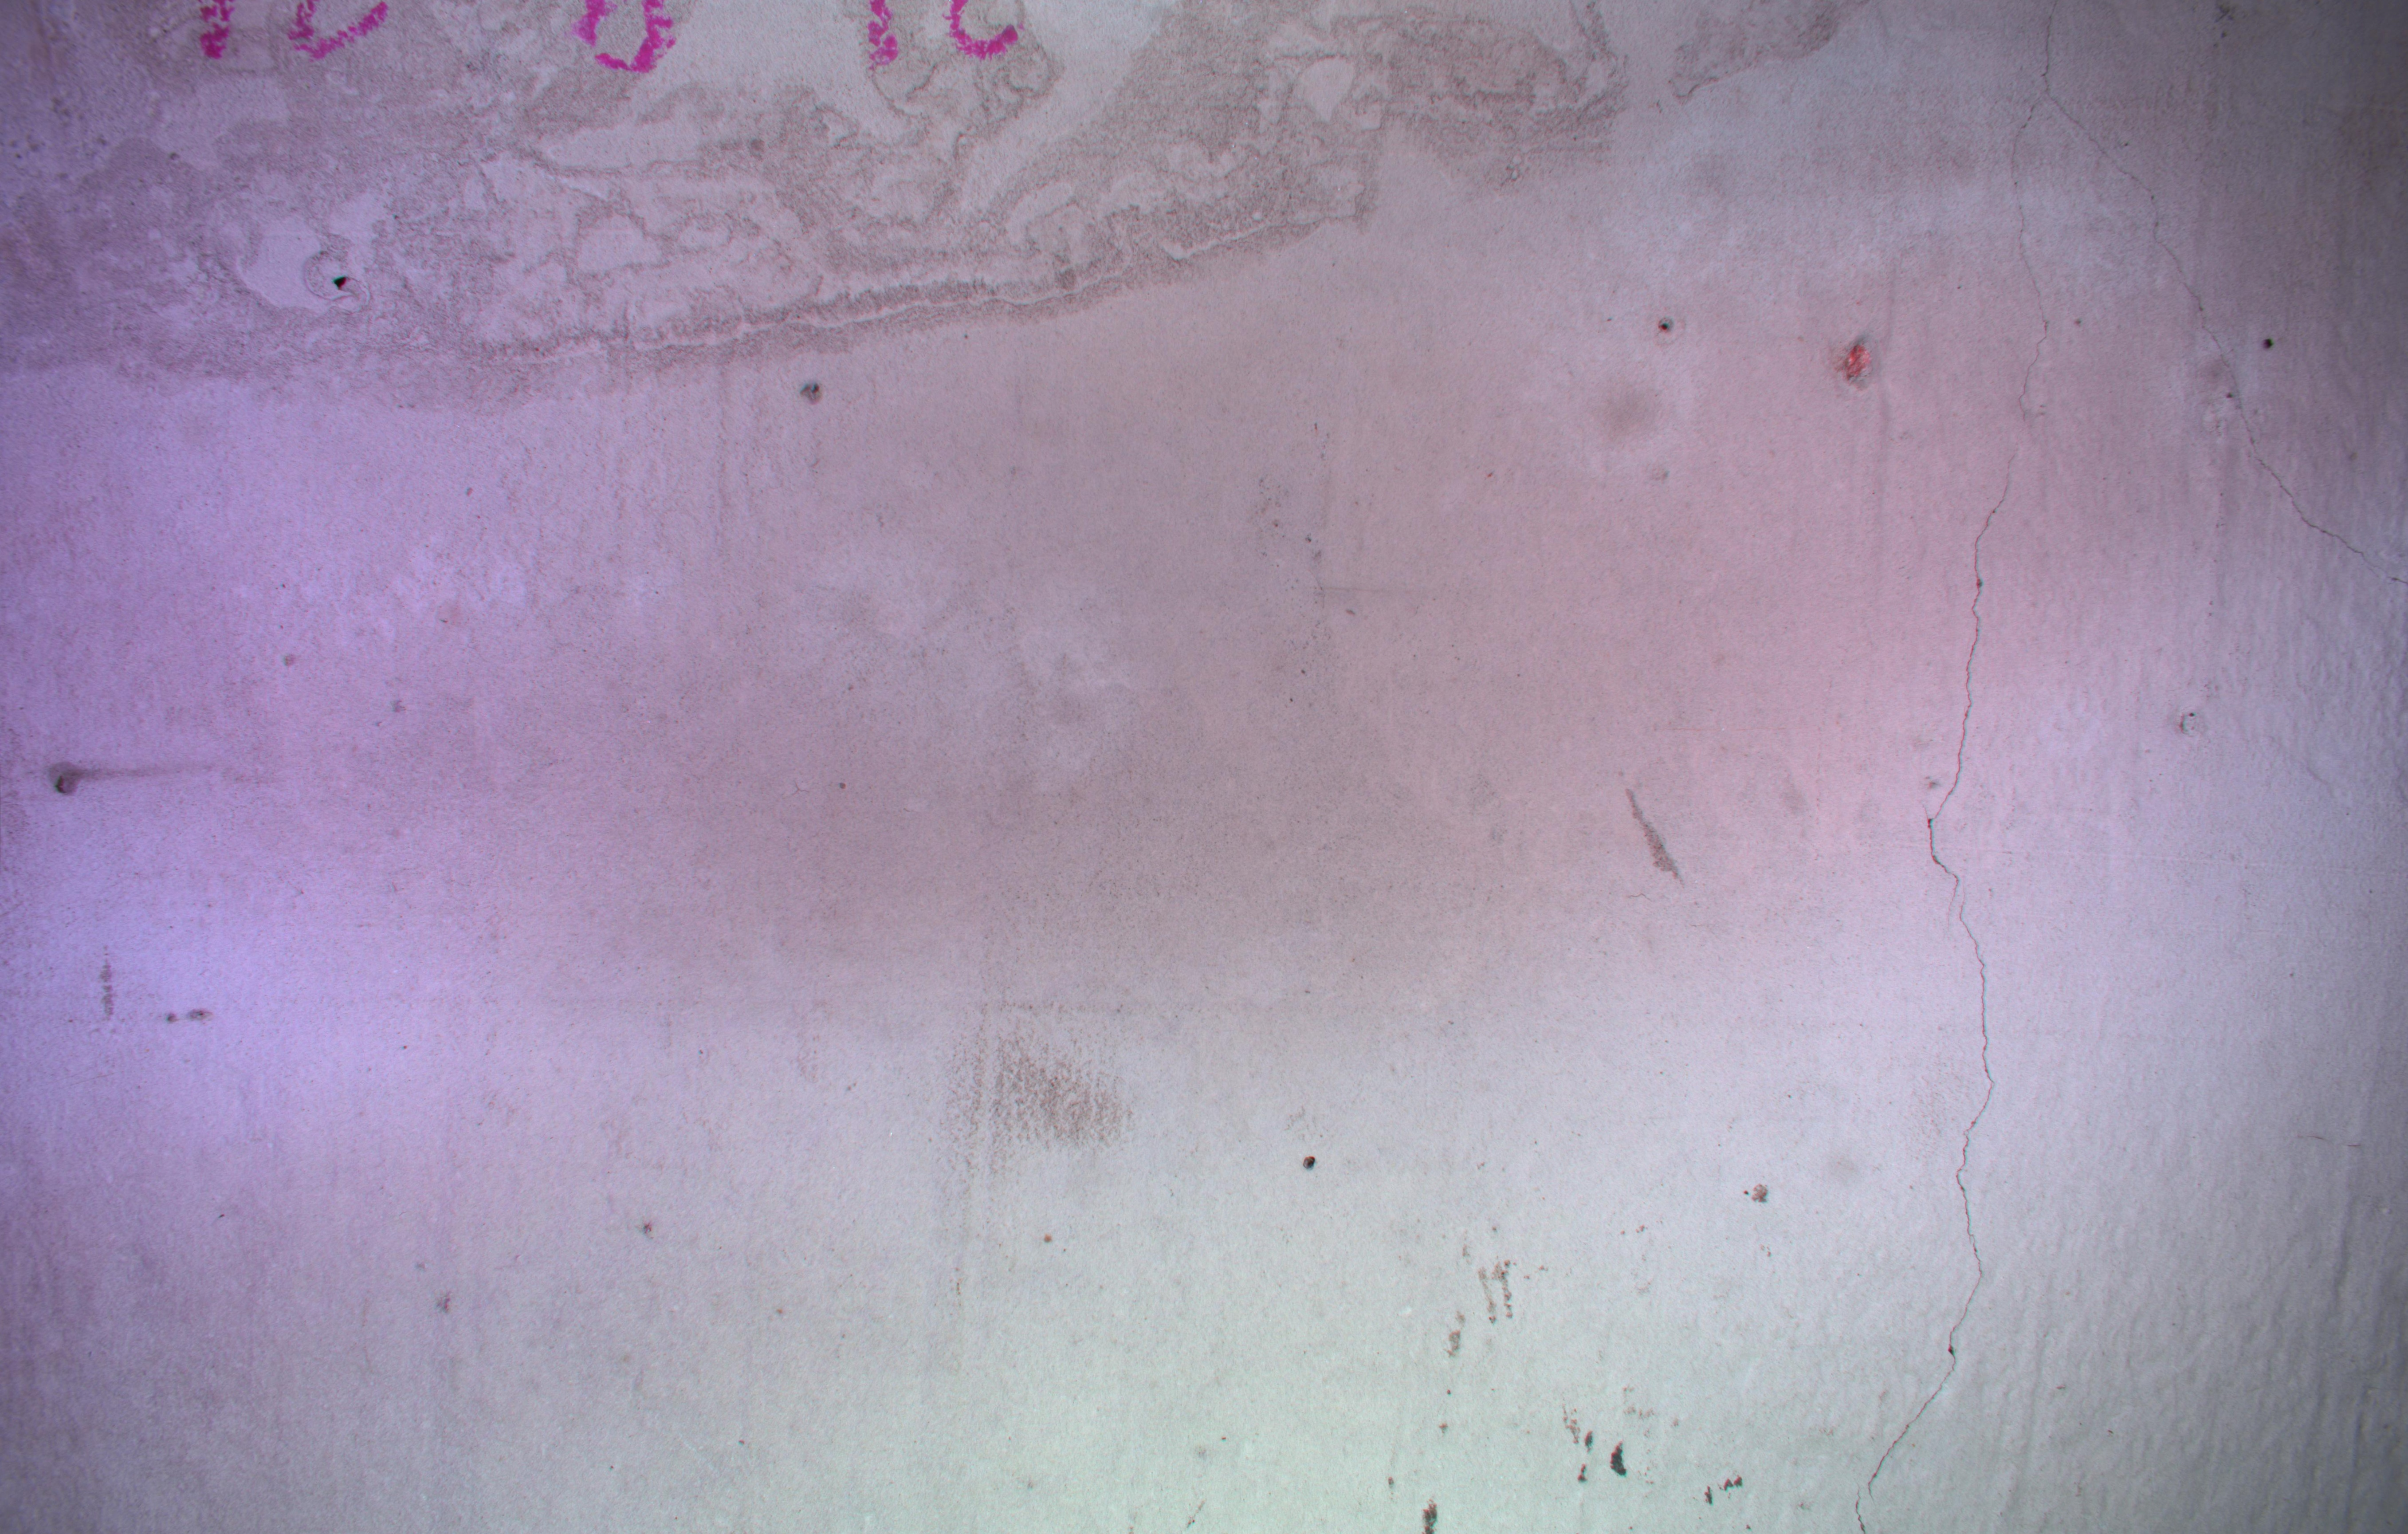Crack: (1838, 0, 2071, 1534), (2031, 0, 2408, 600)
